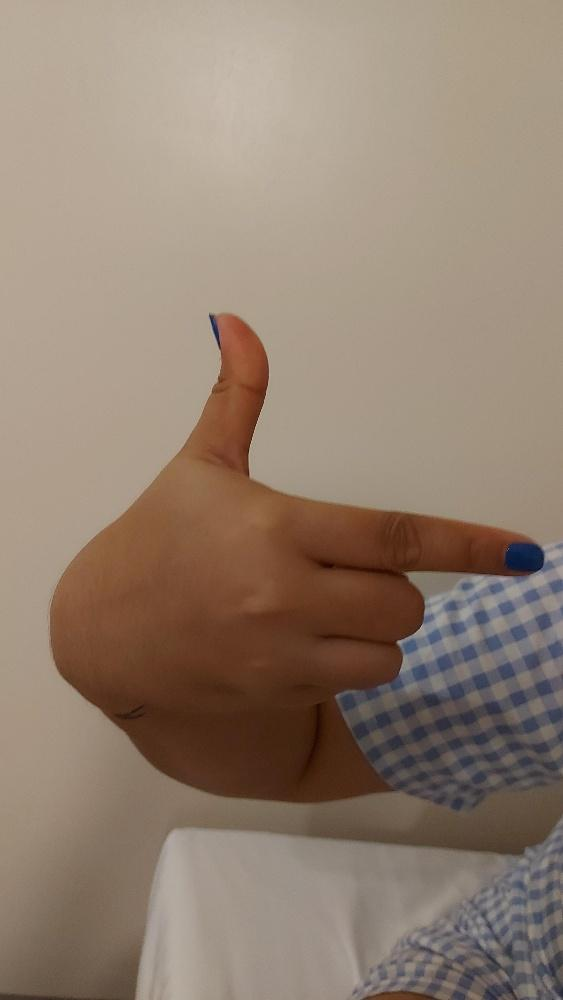g: (47, 307, 545, 717)
